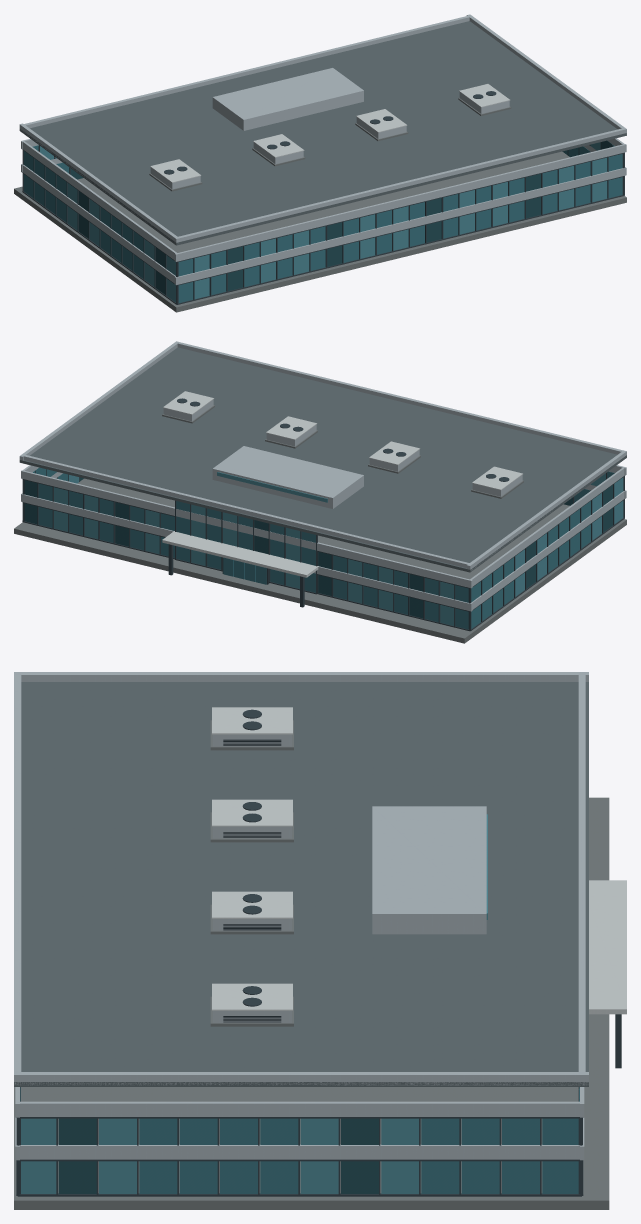
The model's file is CMN_admin_small.glb.
3 views of the same model, one above another, from view 1: azimuth 30°, elevation 25°; view 2: azimuth 150°, elevation 25°; view 3: azimuth 270°, elevation 25° (orthographic). The views are drawn at different scales.
Parts seen in each view (by area): view 1: CMN_admin_small; view 2: CMN_admin_small; view 3: CMN_admin_small.
Part boxes in pixels (x1,y1,x2,y2): CMN_admin_small: (14, 14, 626, 312); CMN_admin_small: (14, 341, 626, 643); CMN_admin_small: (14, 672, 626, 1209).
Bounding box in the file's own units: 70 × 12 × 45.
9 materials, 9 textured.
